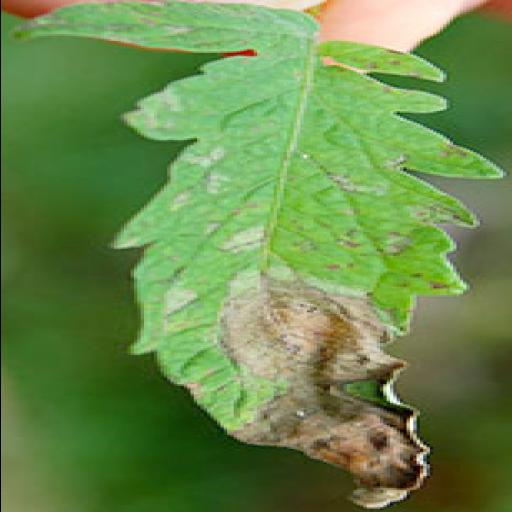Late Blight: (10, 0, 502, 508)
